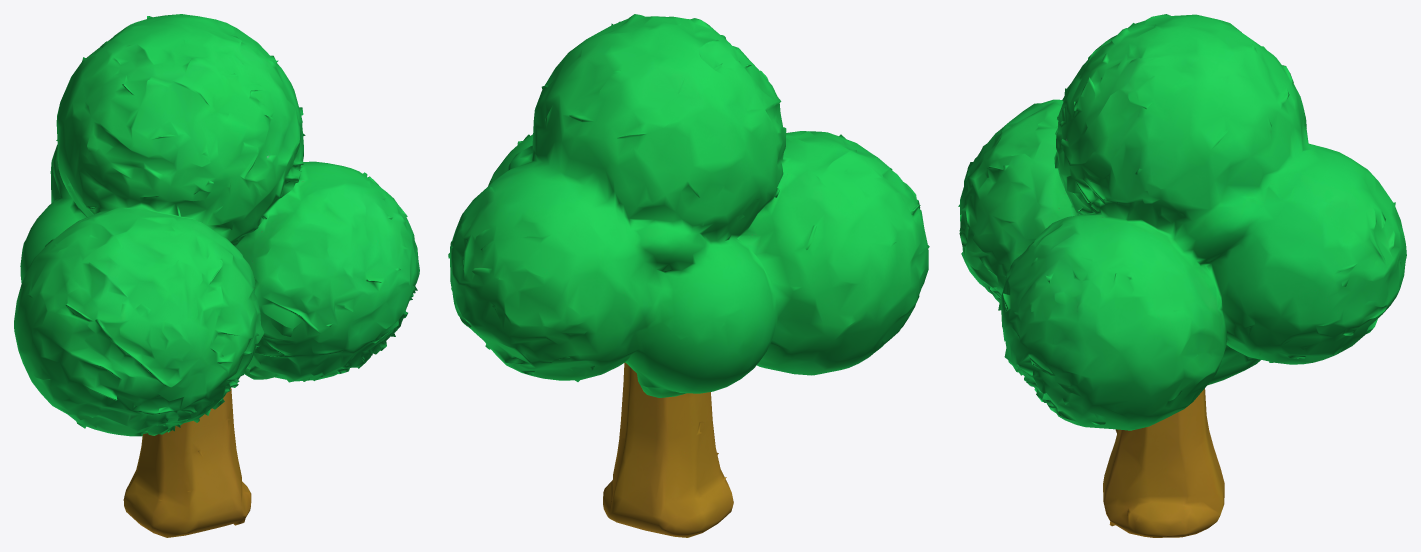
File: tree.fbx
The picture shows the model from 3 angles, left to right: view 1: azimuth 30°, elevation 25°; view 2: azimuth 150°, elevation 25°; view 3: azimuth 270°, elevation 25°; orthographic projection. The views are drawn at different scales.
Parts seen in each view (by area): view 1: tripo_node_81a46223; view 2: tripo_node_81a46223; view 3: tripo_node_81a46223.
Part boxes in pixels (left/top/right/bottom): tripo_node_81a46223: left=14, top=14, right=419, bottom=537; tripo_node_81a46223: left=448, top=14, right=929, bottom=537; tripo_node_81a46223: left=958, top=14, right=1406, bottom=537.
Bounding box in the file's own units: 0.8408 × 1 × 0.8288.
1 material, 1 textured.
